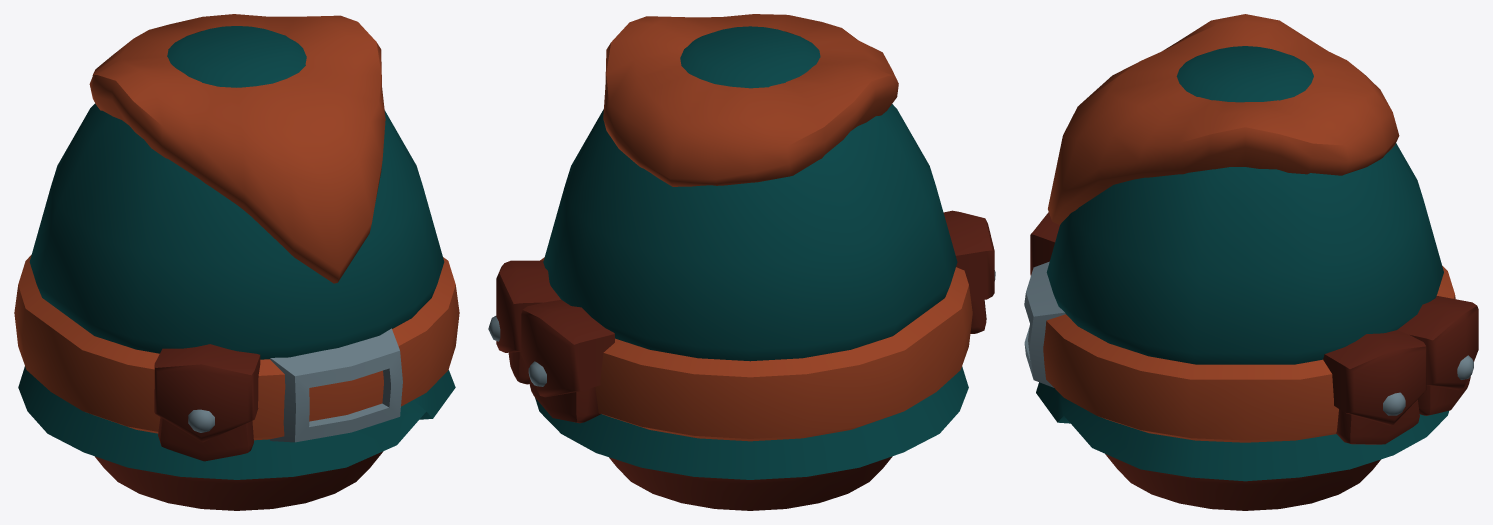
File: body_rogue.fbx
The picture shows the model from 3 angles, left to right: view 1: azimuth 30°, elevation 25°; view 2: azimuth 150°, elevation 25°; view 3: azimuth 270°, elevation 25°; orthographic projection. The views are drawn at different scales.
Parts seen in each view (by area): view 1: body_rogue; view 2: body_rogue; view 3: body_rogue.
Boxes of the visible parts, x1,y1,x2,y2 form: body_rogue: (14,14,459,510); body_rogue: (488,14,995,510); body_rogue: (1024,14,1478,510).
Size of the model in its own units: 71.9 by 72.87 by 77.34.
